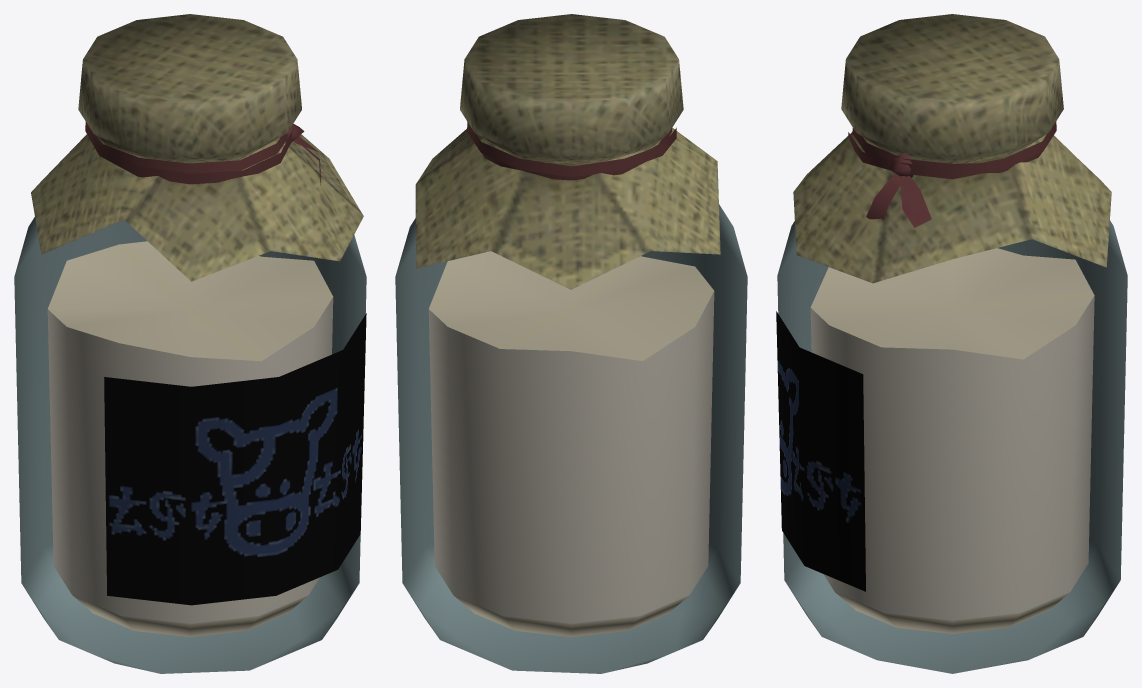
Rendered from Item_Material_05.glb.
3 views of the same model, side by side, from view 1: azimuth 30°, elevation 25°; view 2: azimuth 150°, elevation 25°; view 3: azimuth 270°, elevation 25° (orthographic).
Parts seen in each view (by area): view 1: Item_Material_05; view 2: Item_Material_05; view 3: Item_Material_05.
Boxes of the visible parts, x1,y1,x2,y2 form: Item_Material_05: (14, 14, 366, 673); Item_Material_05: (395, 14, 747, 673); Item_Material_05: (776, 14, 1127, 673).
Bounding box in the file's own units: 0.3317 × 0.5898 × 0.3326.
Materials: 1 (1 with a texture image).
